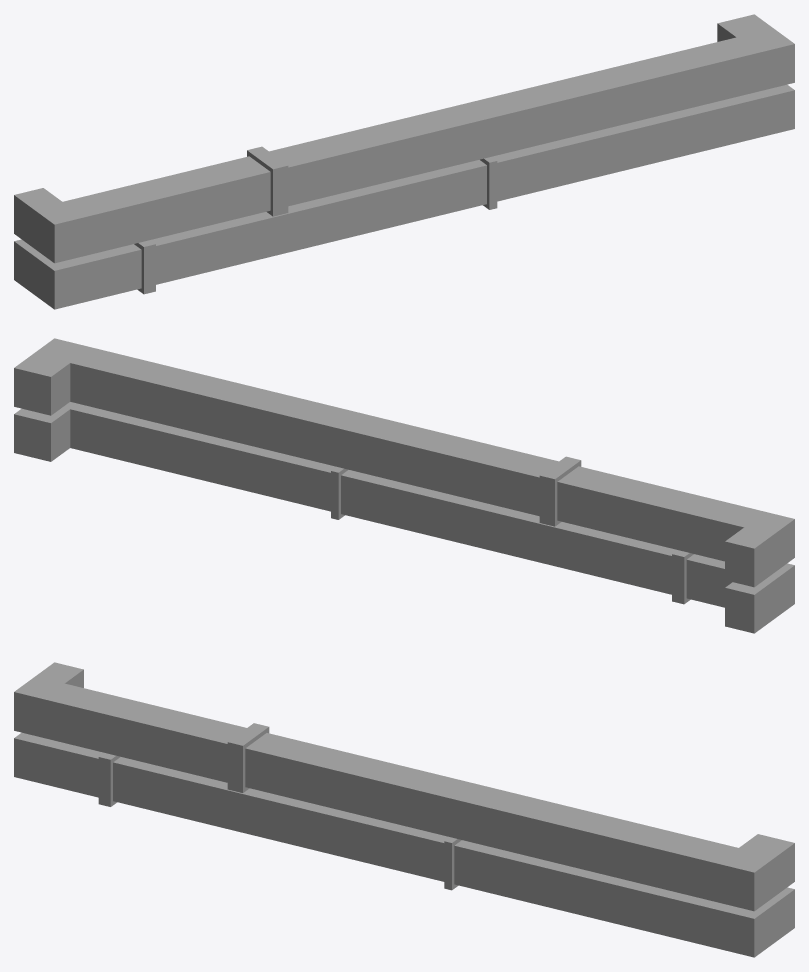
The model's file is TueauMontable.fbx.
The picture shows the model from 3 angles, top to bottom: view 1: azimuth 30°, elevation 25°; view 2: azimuth 150°, elevation 25°; view 3: azimuth 330°, elevation 25°; orthographic projection.
Parts seen in each view (by area): view 1: Cube.245; view 2: Cube.245; view 3: Cube.245.
Boxes of the visible parts, x1,y1,x2,y2 form: Cube.245: (14, 14, 794, 309); Cube.245: (14, 338, 794, 633); Cube.245: (14, 662, 794, 957).
Size of the model in its own units: 1000 by 121 by 100.
